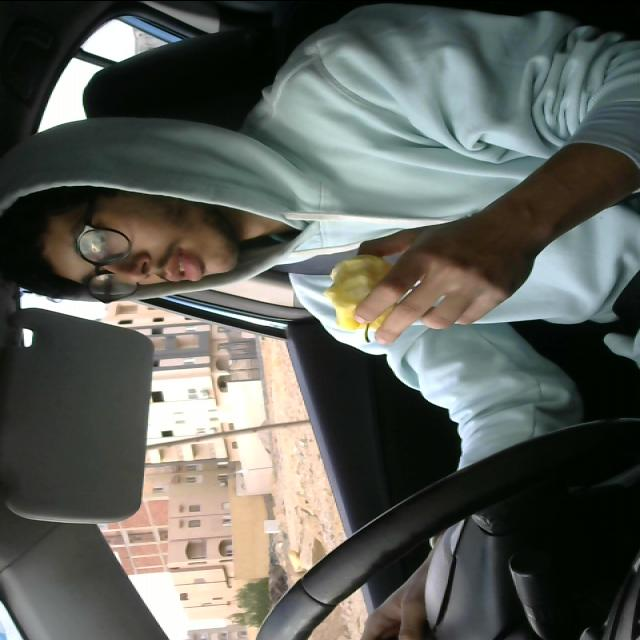eating: (319, 246, 402, 340)
